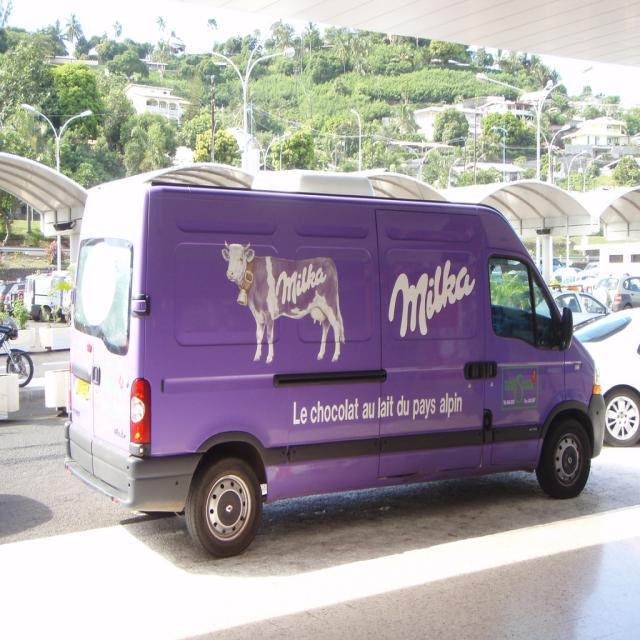milka: (217, 239, 483, 370)
